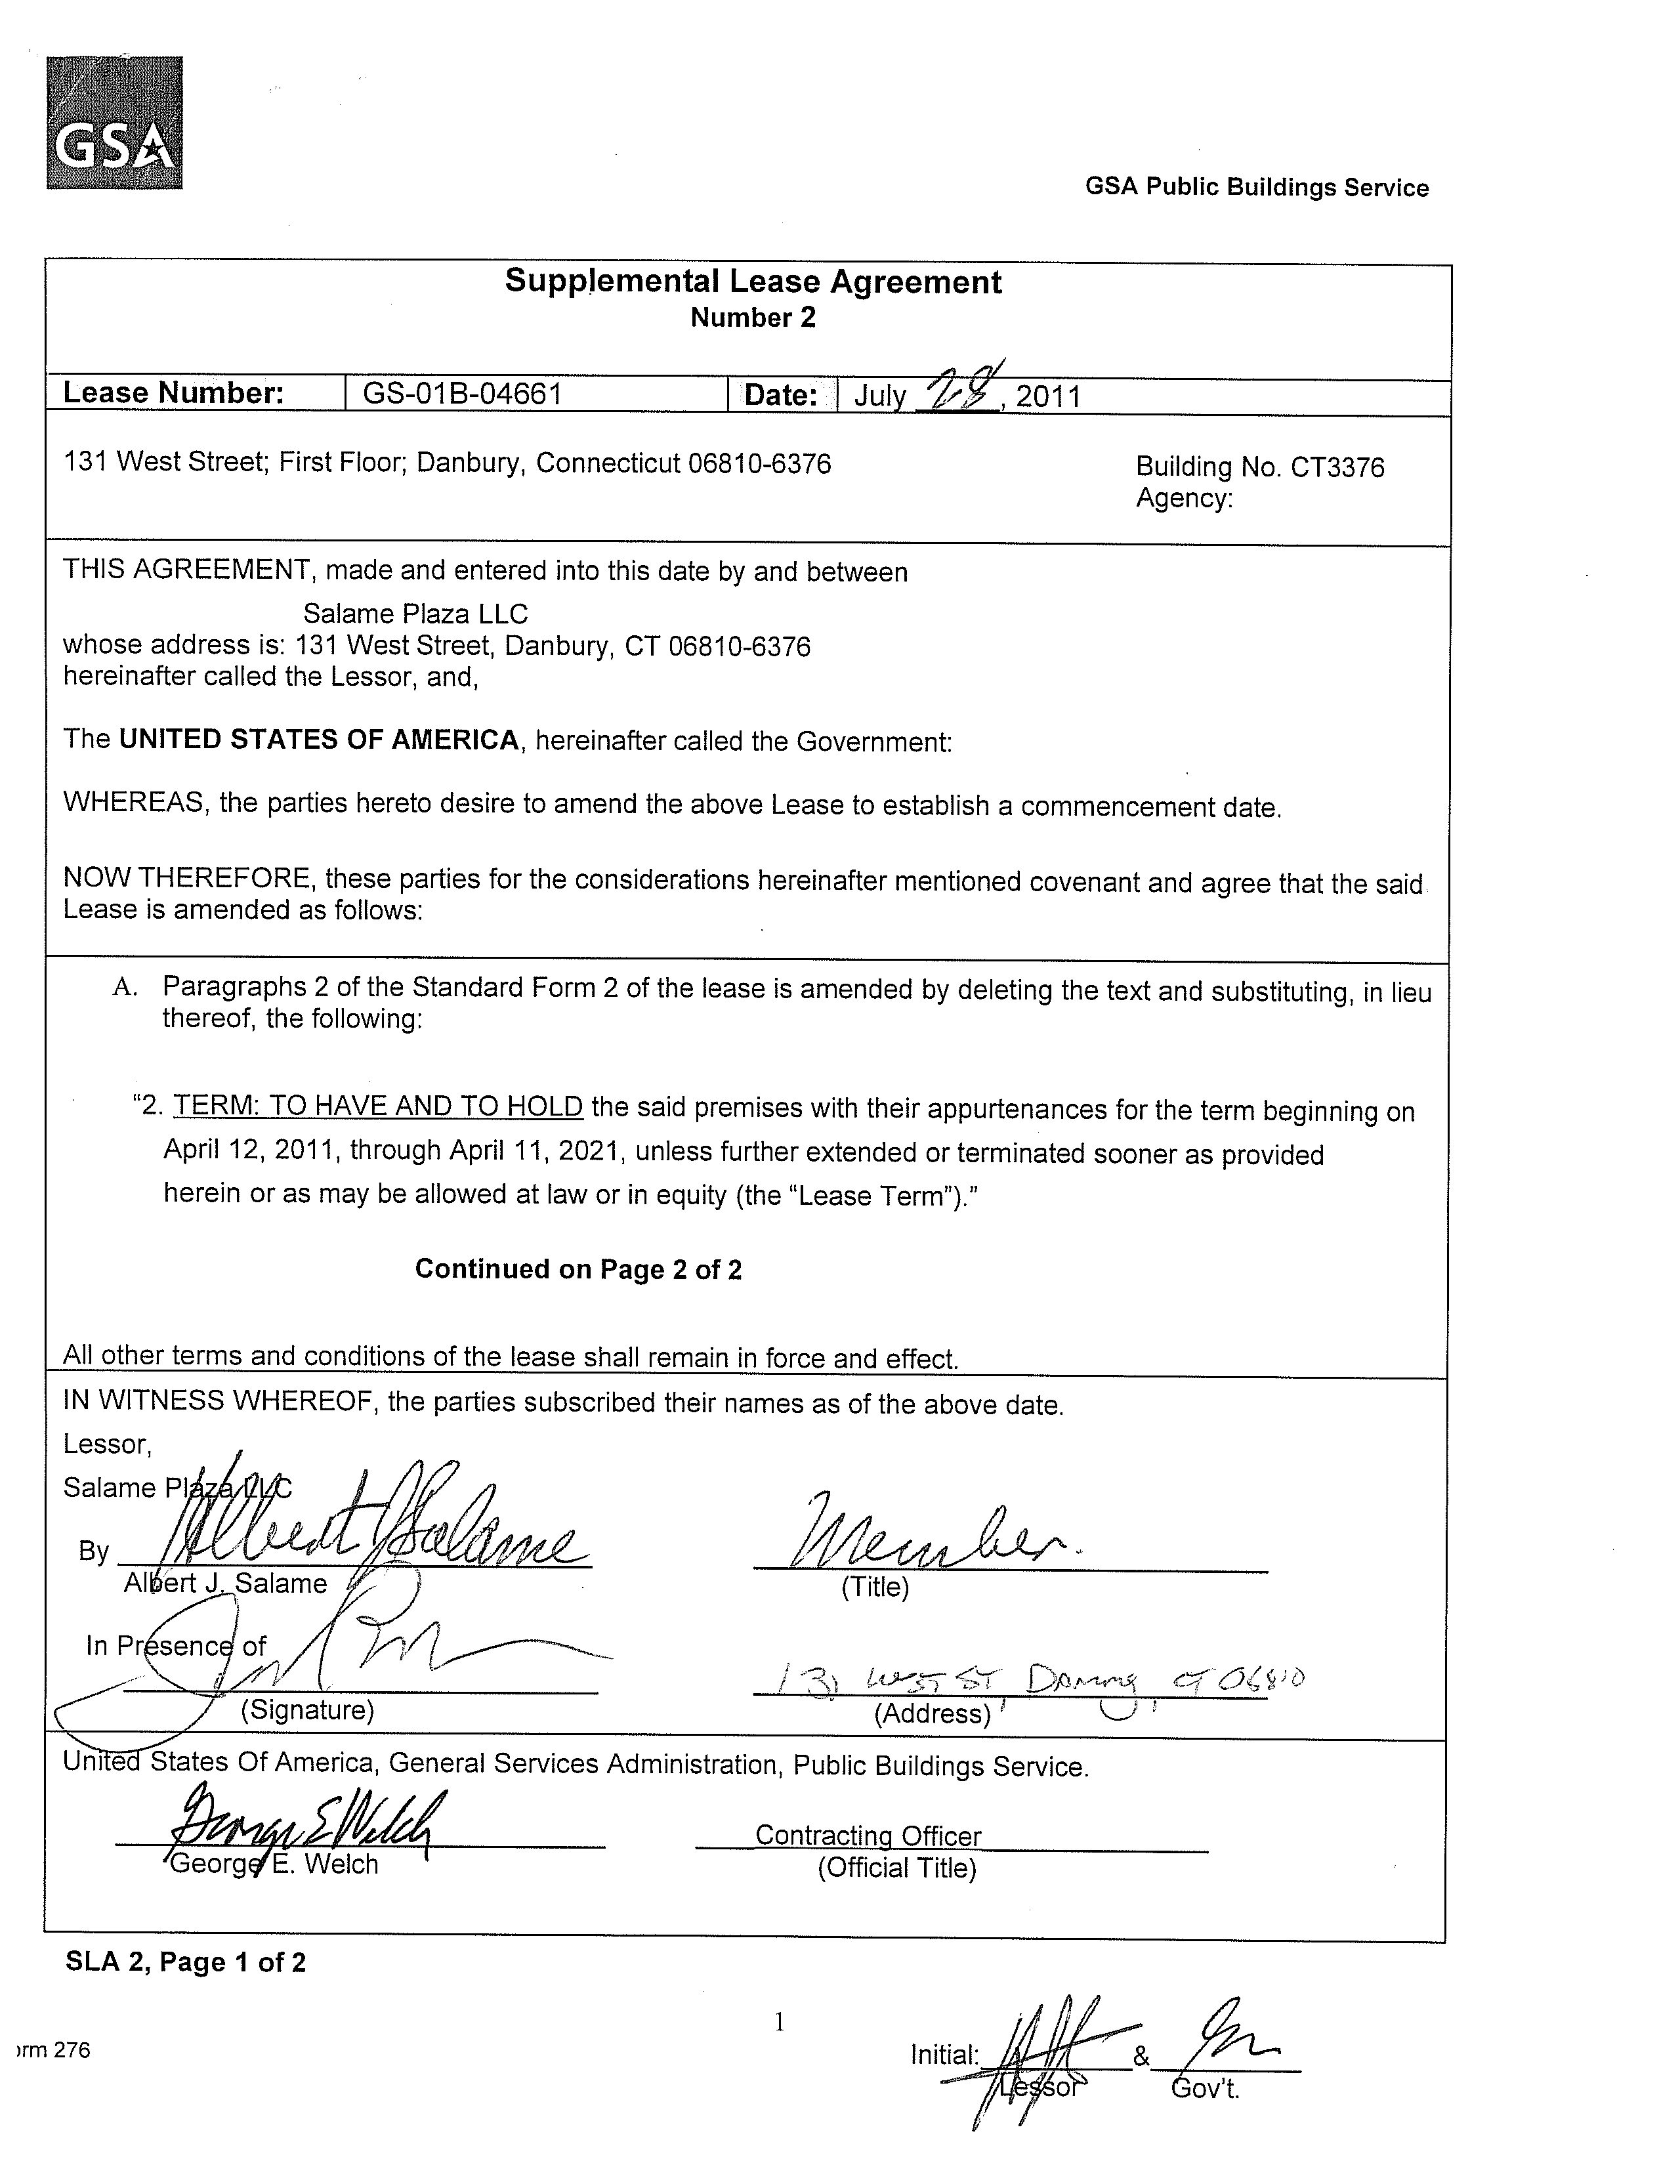handwritten: (161, 1434, 616, 1574), (101, 1584, 637, 1690), (755, 1466, 1124, 1572), (731, 1637, 1341, 1697), (985, 1935, 1124, 2149), (169, 1784, 454, 1854), (1172, 1948, 1297, 2098), (926, 346, 1018, 430)
